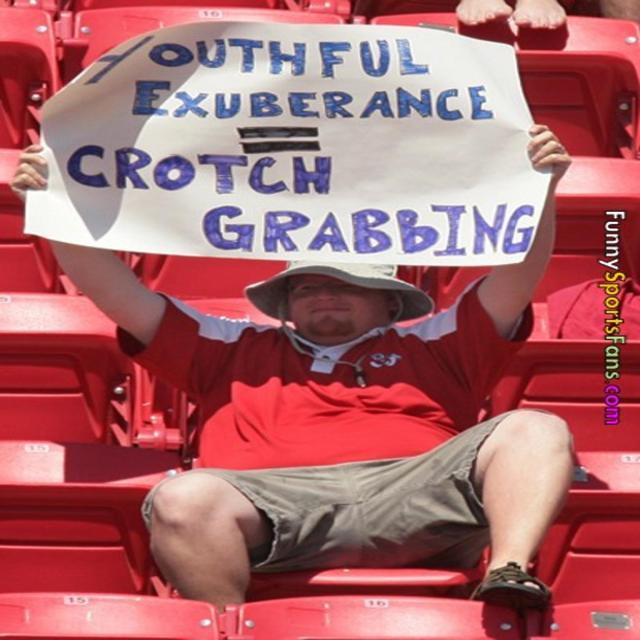nomask: (288, 260, 382, 342)
